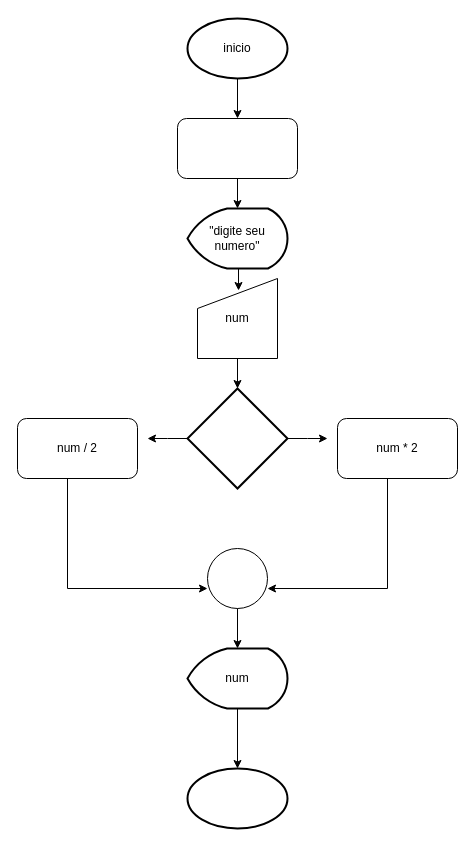
This 475x846 diagram has some shape labels left out. The shapes that lost their labels are listed below. From the top down, each one's centre as x and y in pixels, then its label:
At (237,148): "double num".
At (237,438): "num >= 20".
At (237,798): "fim".
